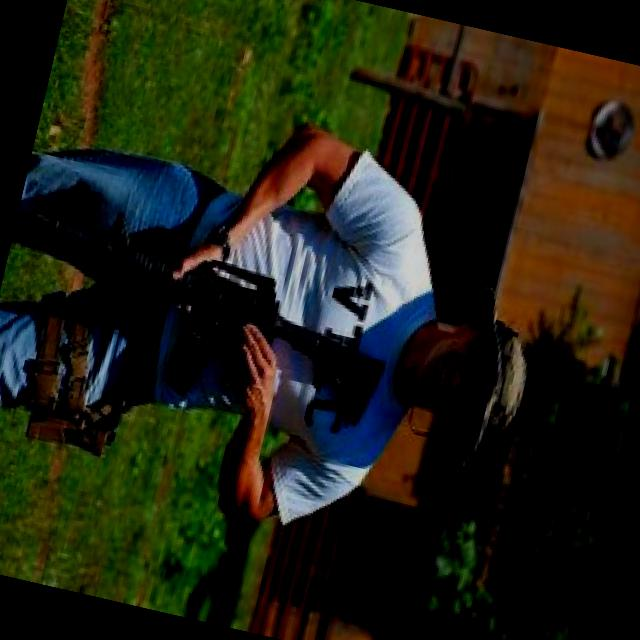long weapon: (13, 174, 392, 457)
